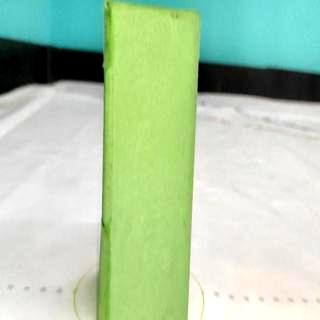greenbox: (98, 0, 199, 320)
